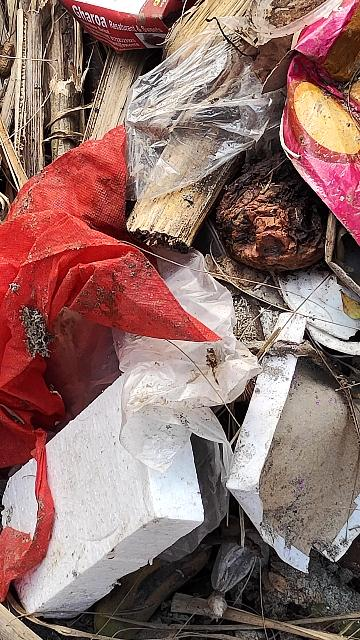cocksheet: (0, 386, 212, 618)
